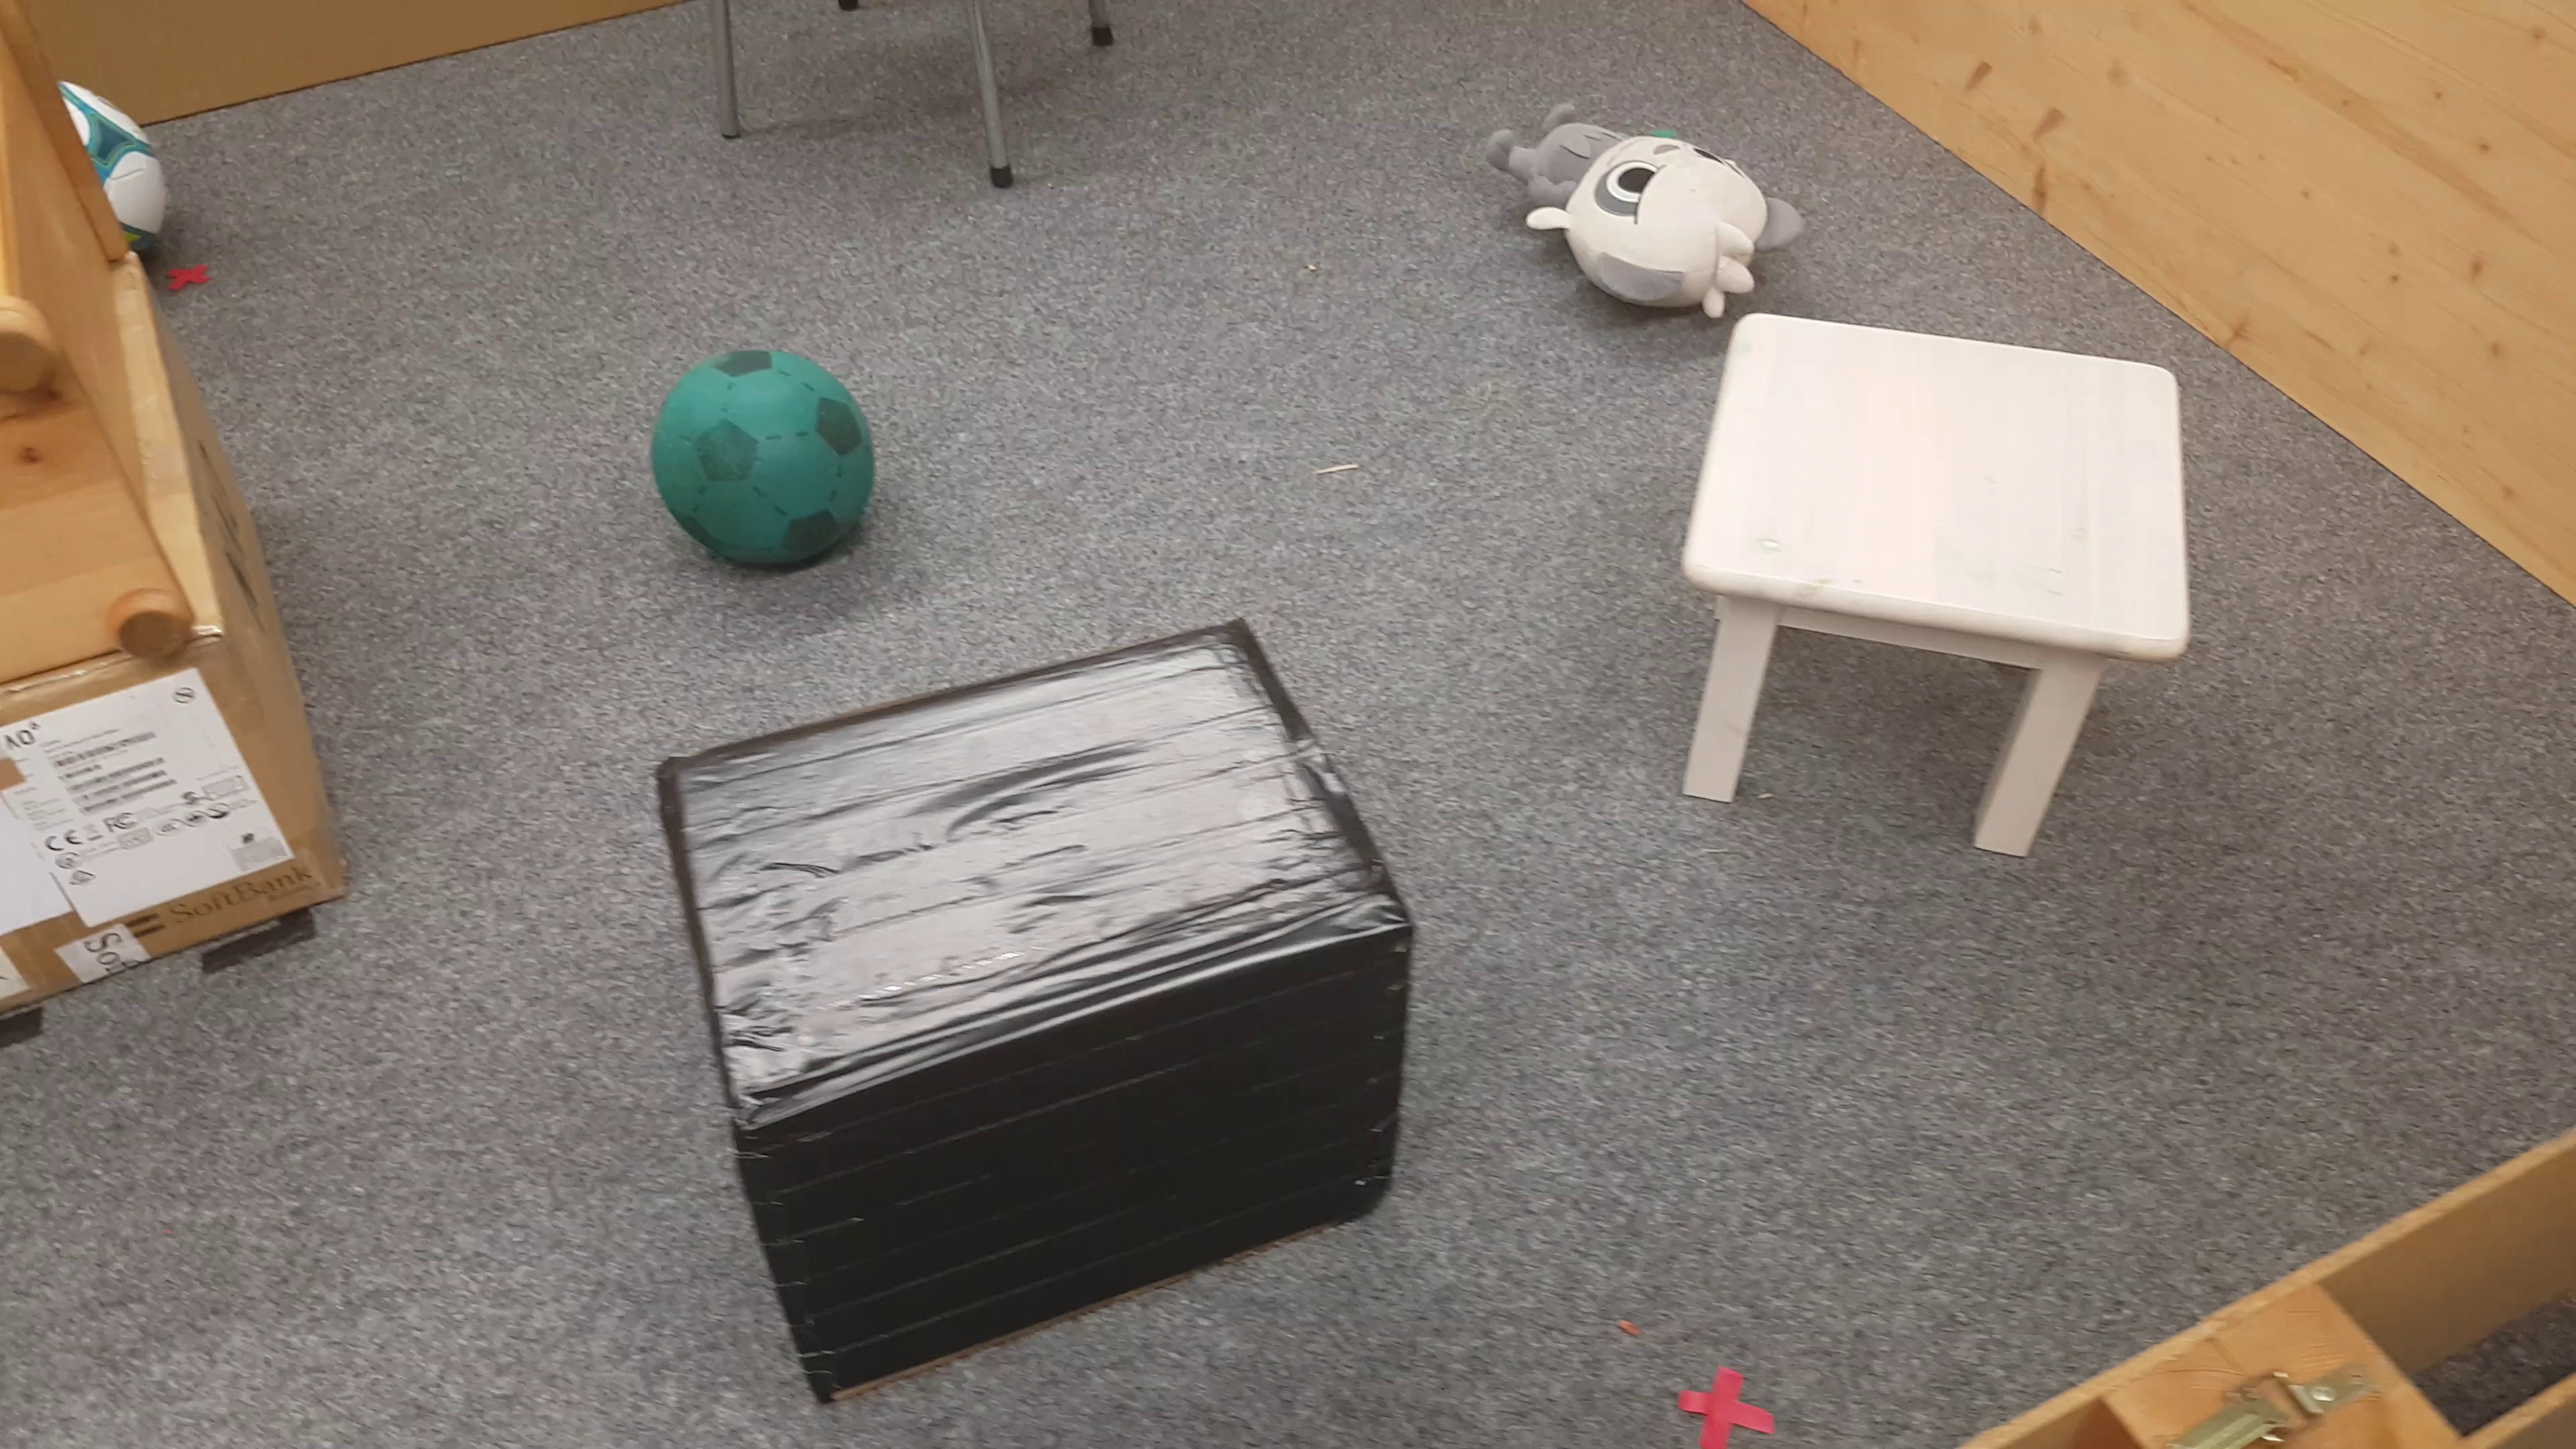grasp: (1484, 94, 1803, 308)
kick: (653, 347, 876, 571)
push: (658, 621, 1412, 1415)
